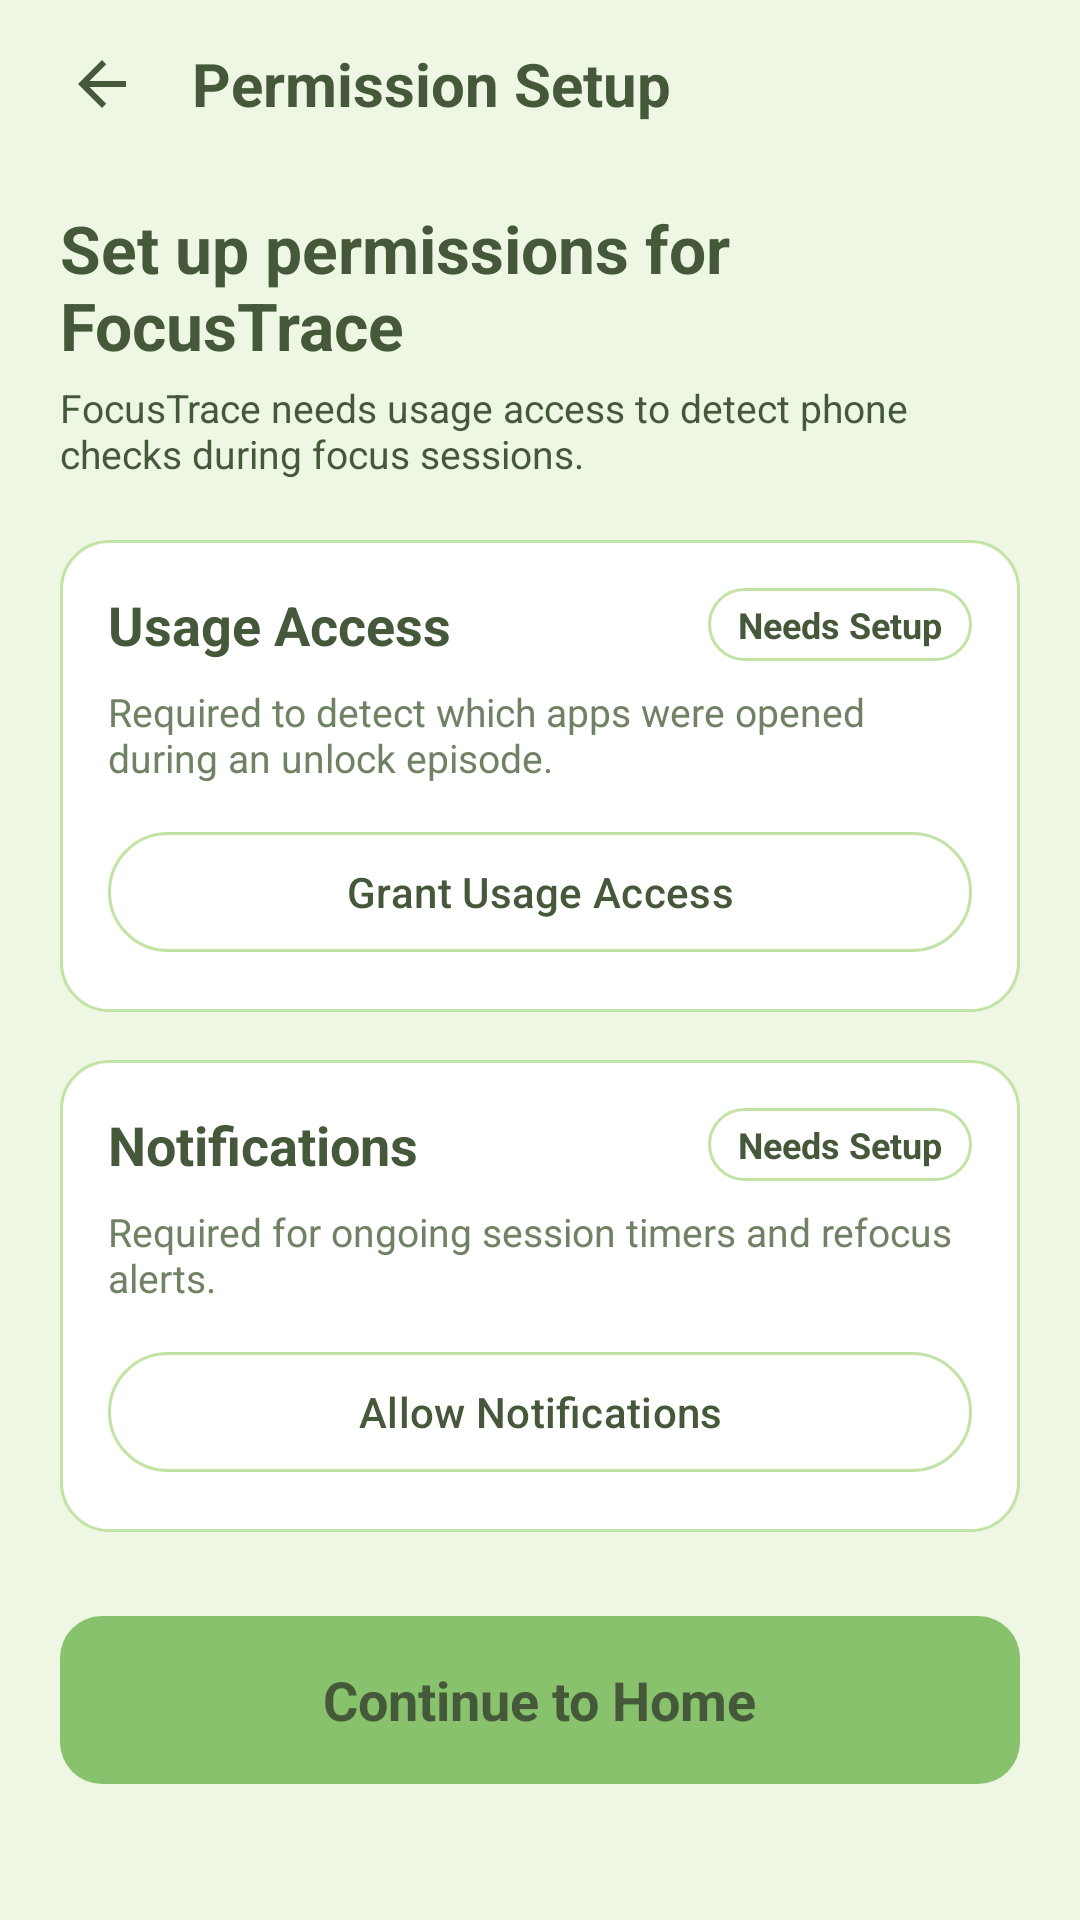

Where to tap for icons on this 1080×1920 app screen, as (x,y):
Back: (102,84)
